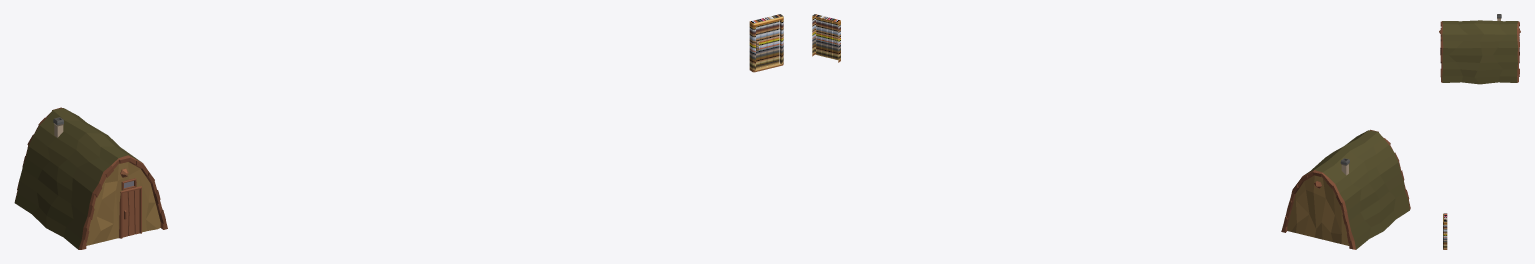
The model's file is dugout.fbx.
3 renders of one model, left to right at view 1: azimuth 30°, elevation 25°; view 2: azimuth 150°, elevation 25°; view 3: azimuth 270°, elevation 25°, orthographic. The views are drawn at different scales.
Parts seen in each view (by area): view 1: dugout; view 2: dugout; view 3: dugout.
Boxes of the visible parts, x1,y1,x2,y2 form: dugout: [14, 14, 783, 249]; dugout: [812, 14, 1410, 249]; dugout: [1439, 14, 1520, 249].
Size of the model in its own units: 1376 by 167 by 238.
